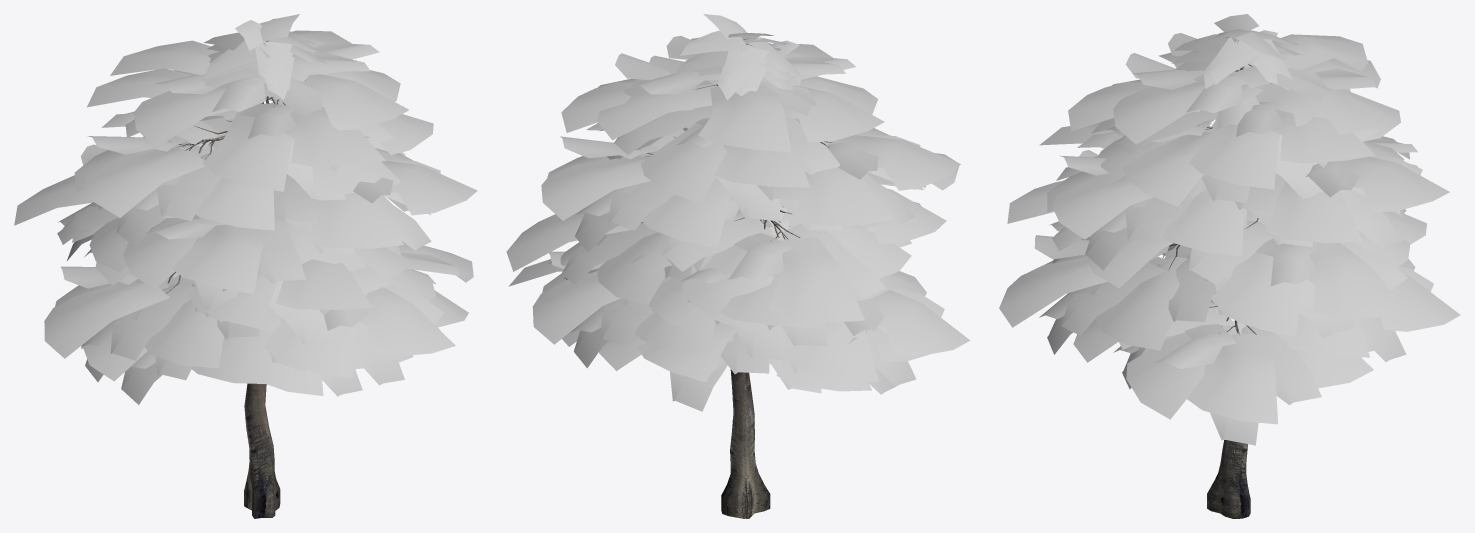
File: a015zzzzzb.fbx
The picture shows the model from 3 angles, left to right: view 1: azimuth 30°, elevation 25°; view 2: azimuth 150°, elevation 25°; view 3: azimuth 270°, elevation 25°; orthographic projection.
Parts seen in each view (by area): view 1: Cylinder.1109; view 2: Cylinder.1109; view 3: Cylinder.1109.
Part boxes in pixels (bbox=[...]): Cylinder.1109: bbox=[14, 14, 477, 518]; Cylinder.1109: bbox=[506, 14, 970, 518]; Cylinder.1109: bbox=[999, 14, 1460, 518].
Bounding box in the file's own units: 43.38 × 47.08 × 40.16.
